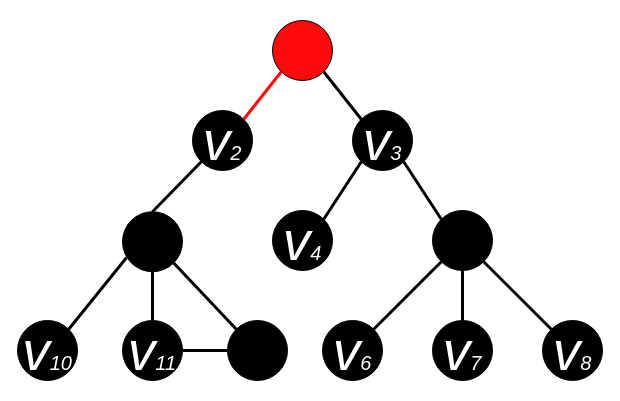
The diagram is 620 pixels wide and 401 high, and some of its shapes have lost their labels. Each missing label, with the centre of its shape:
"v 1" belongs at point 302,50.
"v 12" belongs at point 257,350.
"v 5" belongs at point 462,240.
"v 9" belongs at point 152,241.
